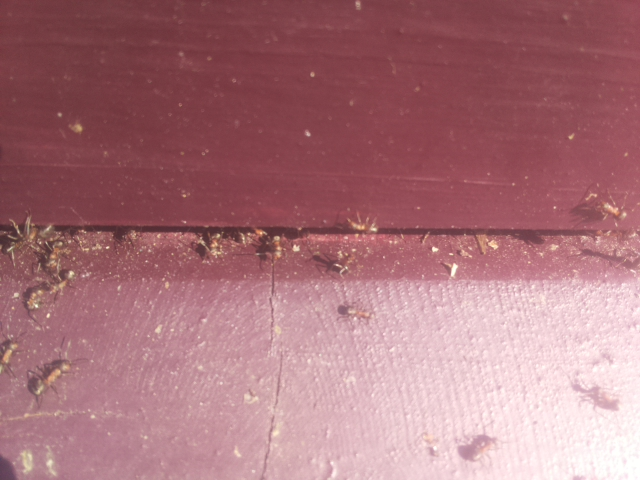ant: (21, 353, 81, 402), (0, 217, 42, 256), (333, 299, 379, 322), (47, 265, 77, 299), (0, 334, 20, 382), (463, 434, 498, 460), (600, 197, 628, 224), (420, 433, 441, 457), (347, 216, 378, 232)
